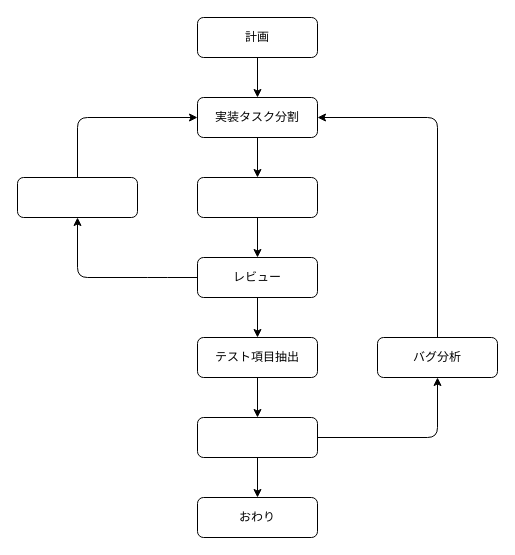
Some shapes in this 515 by 555 pixel diagram are drawn without their labels. The shapes that lost their labels are listed below. From the top down, each one's box as (x1, y1, x2, y2) in pixels, then its label:
(16, 176, 138, 218): 分析
(196, 176, 318, 218): 実装
(196, 416, 318, 458): テスト実装
